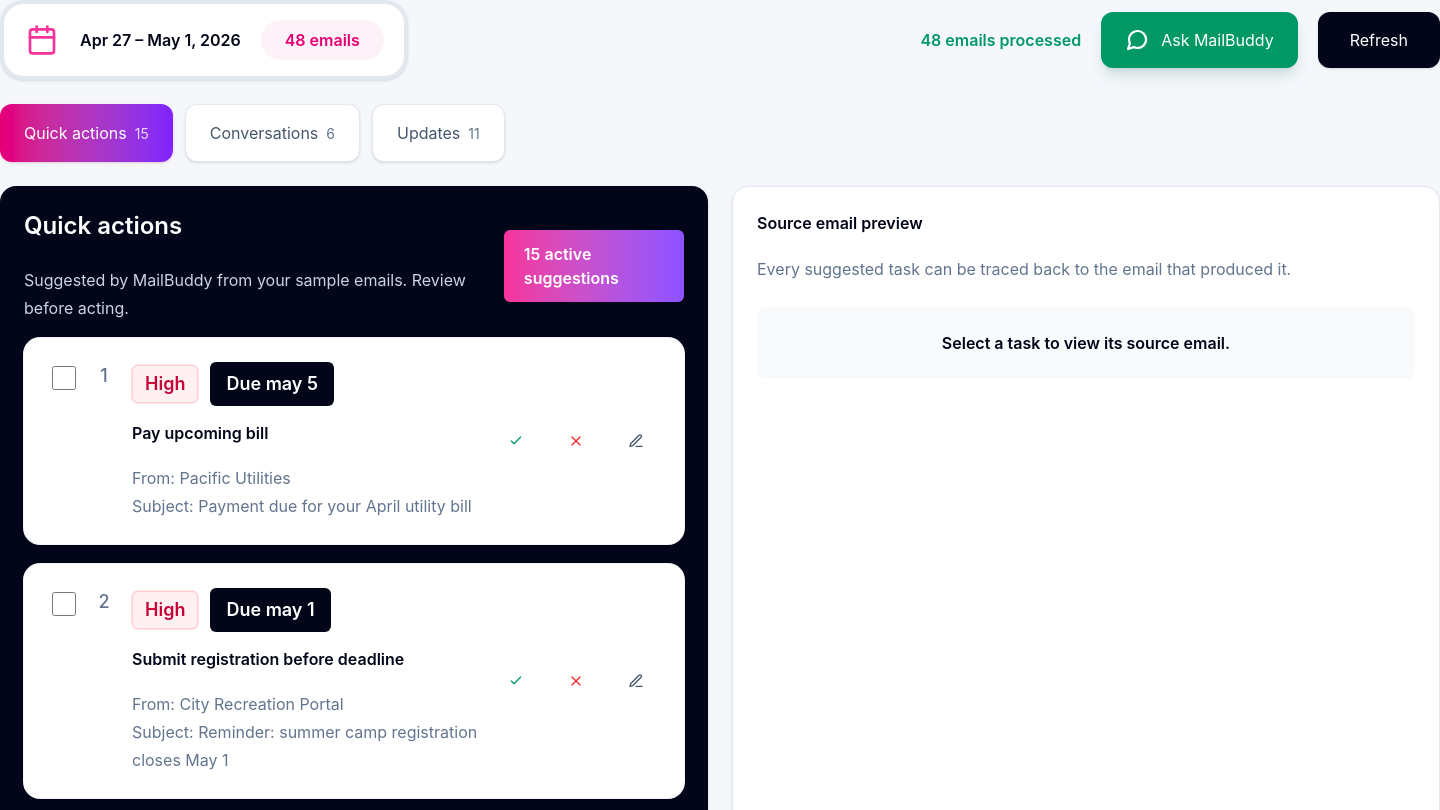
Test: Dashboard integration › answers the today quick question with highest priority quick actions
Click the button "Ask MailBuddy": click(1199, 40) [1101,12,1298,68]
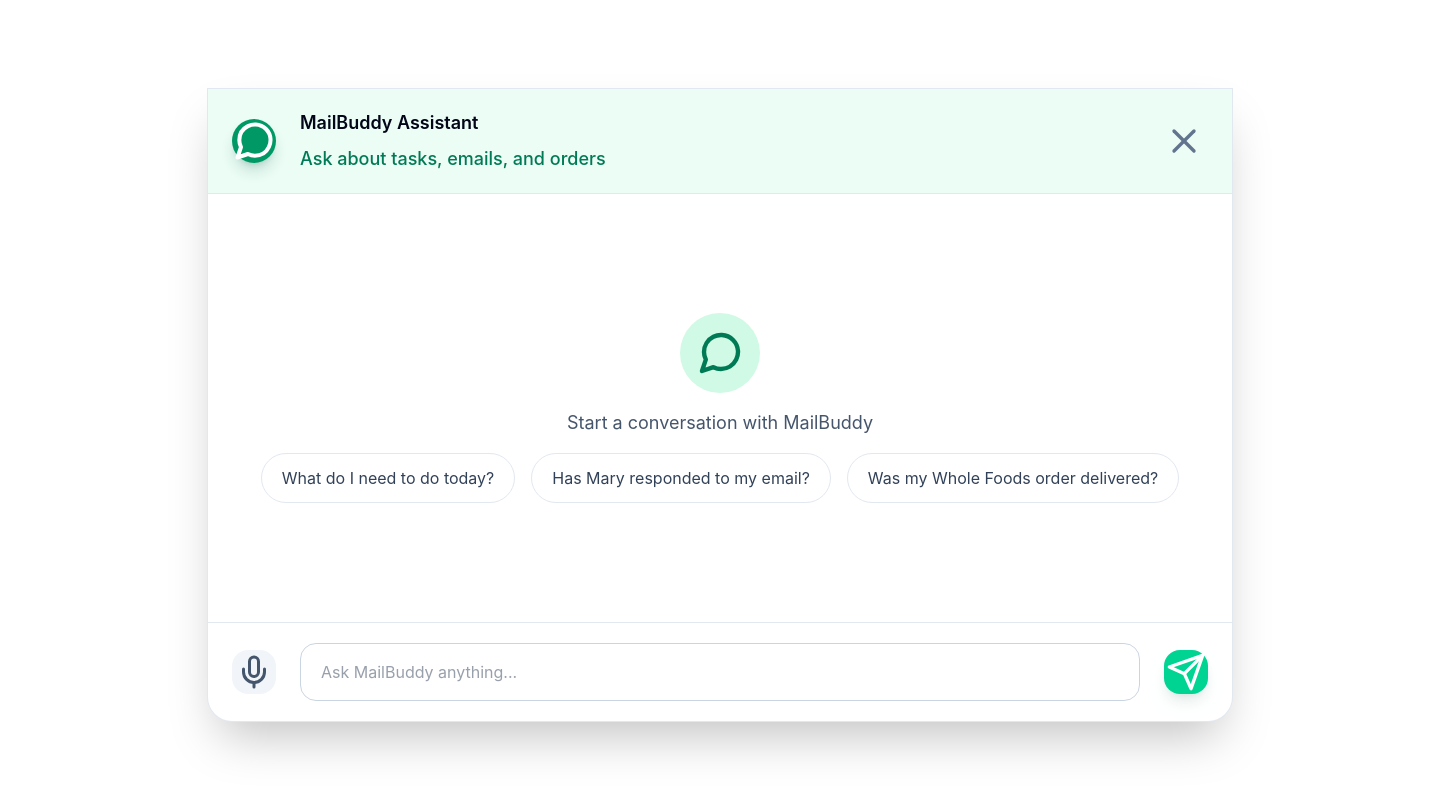
In the field with placeholder "Ask MailBuddy anything...": (720, 672) [300,643,1140,701], type "What do I need to do today?"
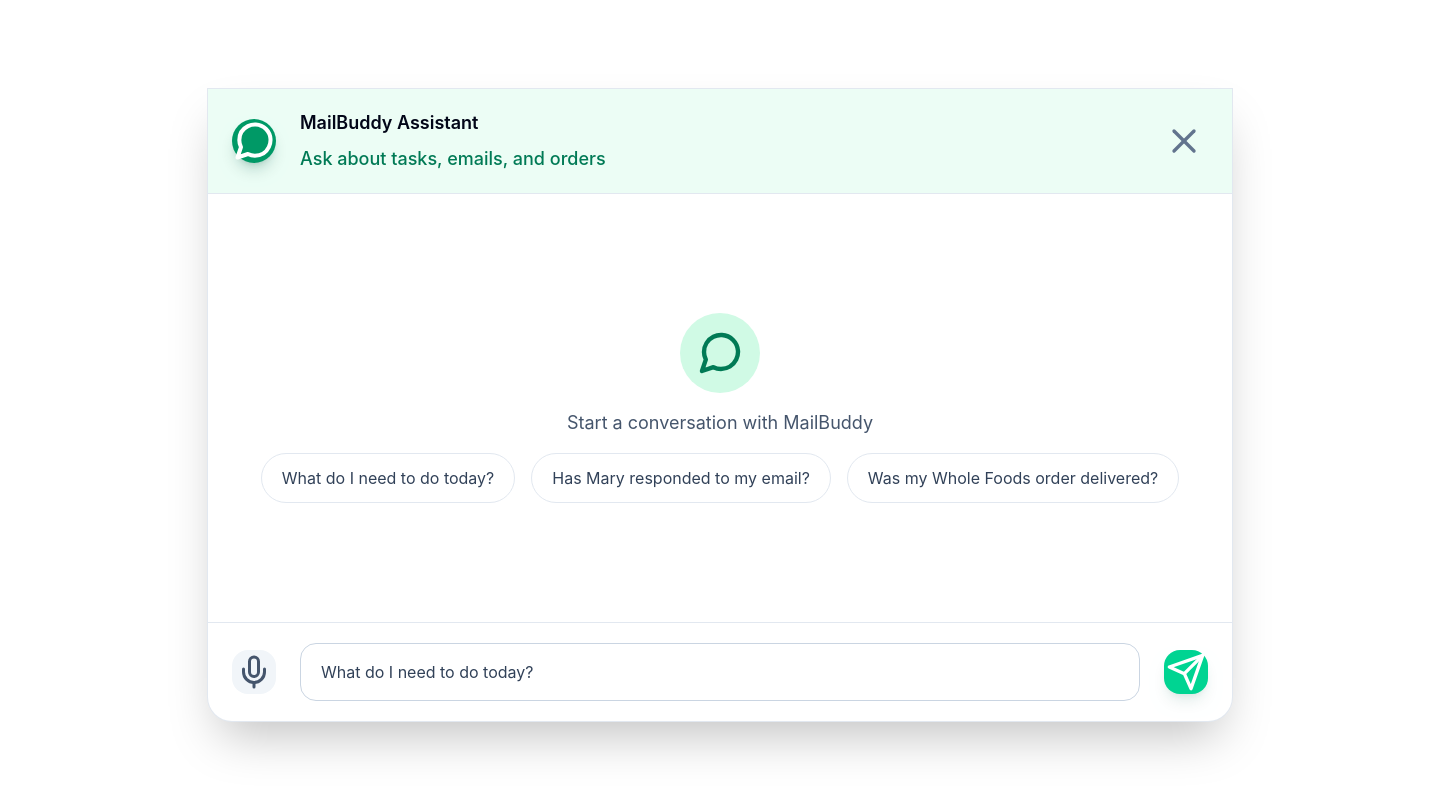
Click the button named "Send message": click(1186, 672) [1164,650,1208,694]
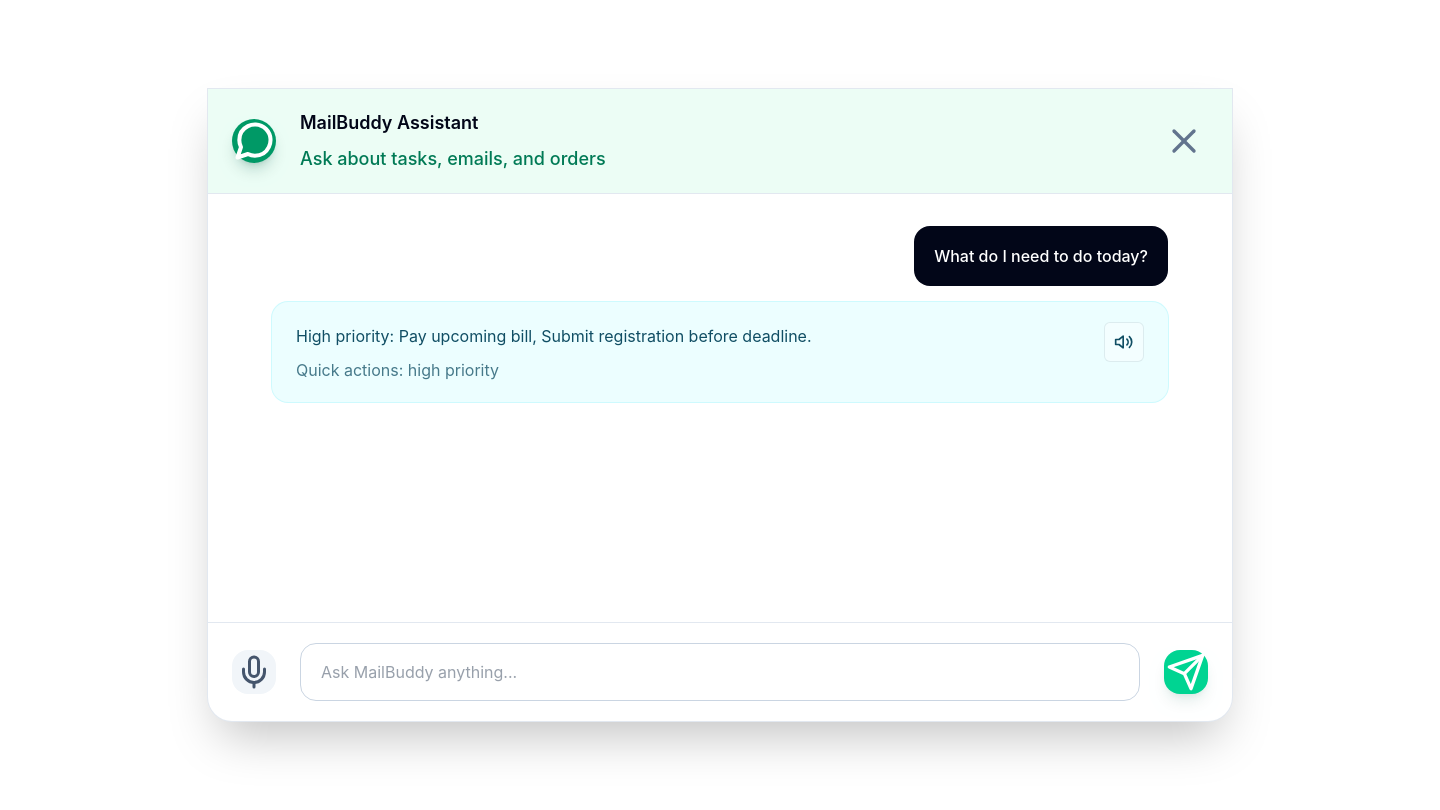
Check: the text "Submit registration before deadline" is shown, box [296,326,812,346]
